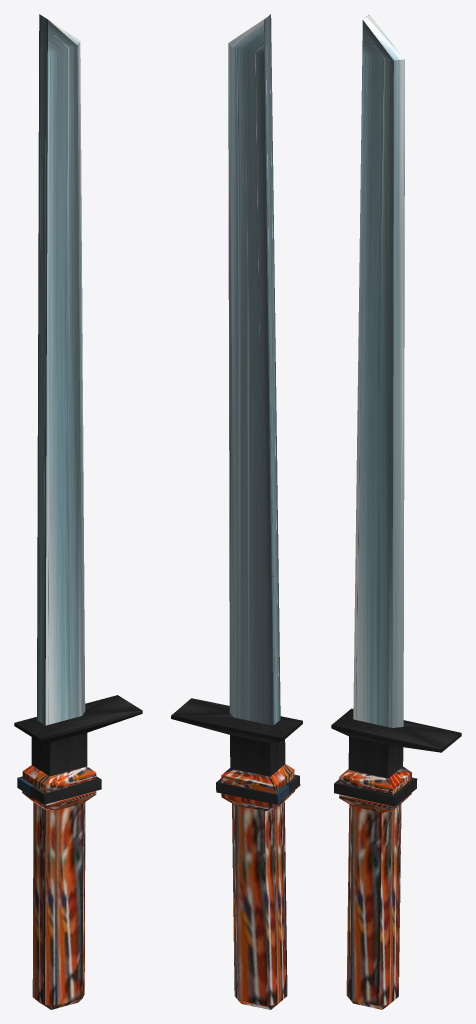
The model's file is Wakizashi.fbx.
The picture shows the model from 3 angles, left to right: view 1: azimuth 30°, elevation 25°; view 2: azimuth 150°, elevation 25°; view 3: azimuth 330°, elevation 25°; orthographic projection.
Visible parts, largest first — view 1: Wakizashi; view 2: Wakizashi; view 3: Wakizashi.
Boxes of the visible parts, box(x1,y1,x2,y2) form: Wakizashi: box(14, 14, 142, 1009); Wakizashi: box(171, 14, 302, 1009); Wakizashi: box(331, 14, 461, 1009).
Size of the model in its own units: 530 by 4559 by 230.
